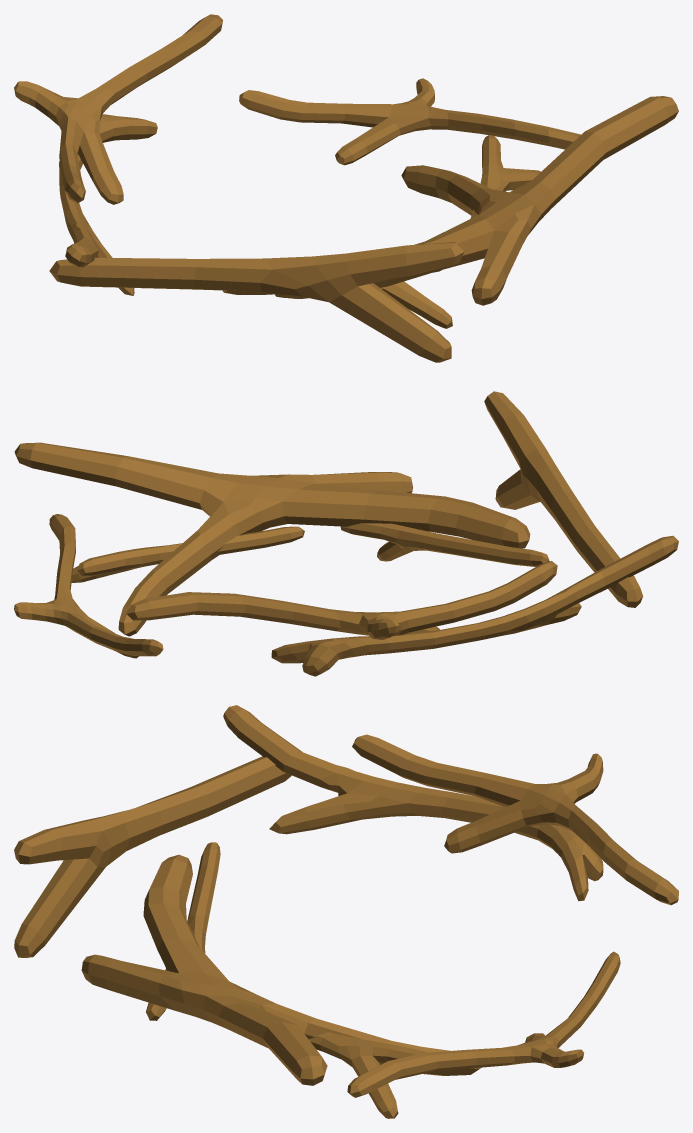
File: Nest3.fbx
The picture shows the model from 3 angles, top to bottom: view 1: azimuth 30°, elevation 25°; view 2: azimuth 150°, elevation 25°; view 3: azimuth 270°, elevation 25°; orthographic projection. The views are drawn at different scales.
Visible parts, largest first — view 1: Next3; view 2: Next3; view 3: Next3.
Boxes of the visible parts, <box> form: Next3: <box>14,14,678,362</box>; Next3: <box>14,391,678,676</box>; Next3: <box>14,705,678,1118</box>.
Bounding box in the file's own units: 86.84 × 18.73 × 73.22.
